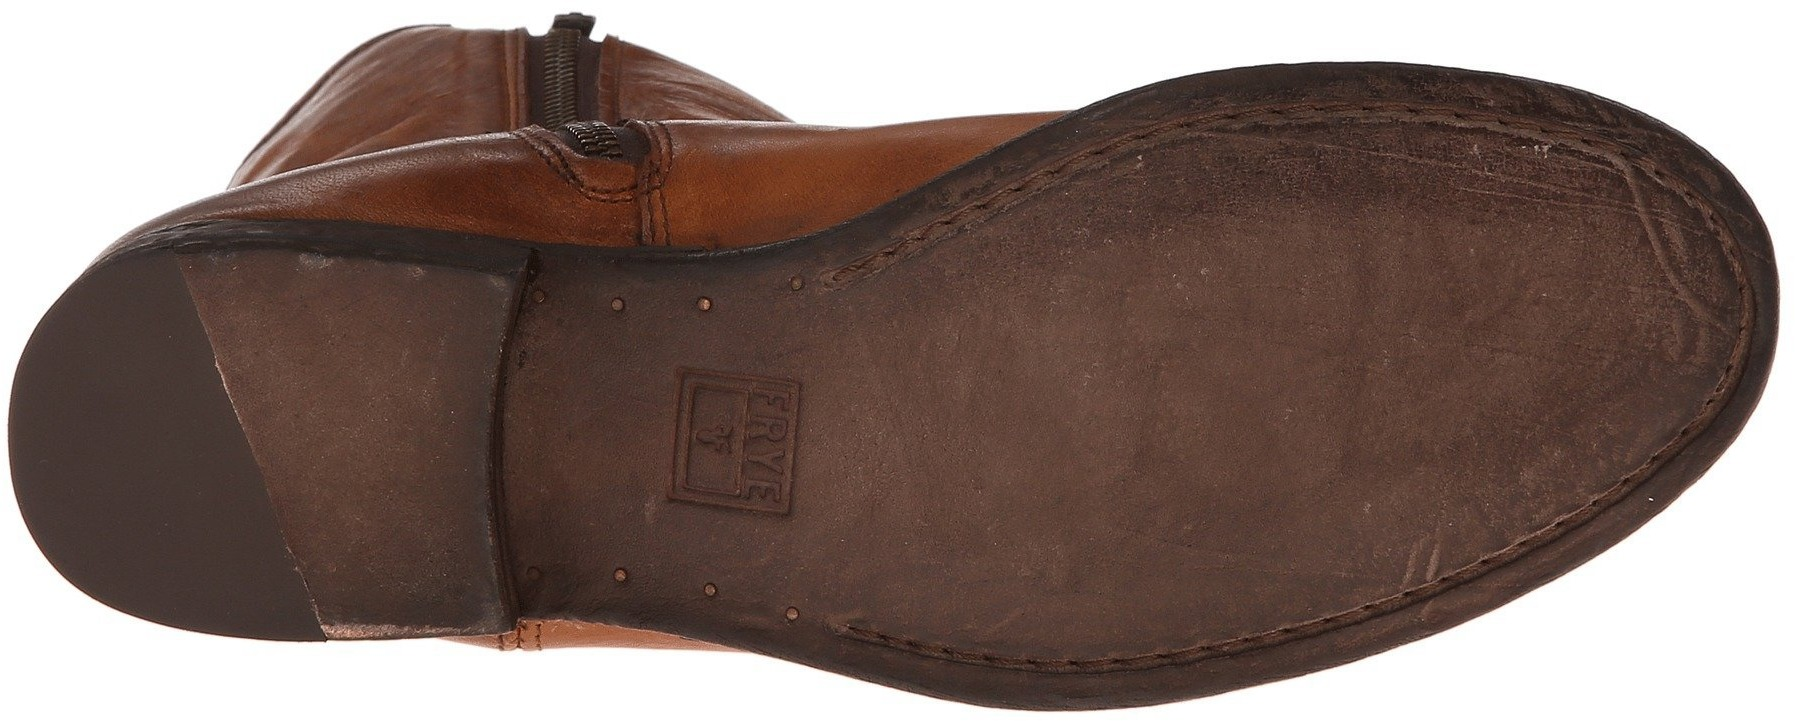other: (1042, 209, 1384, 532), (1390, 188, 1634, 428), (812, 298, 1046, 532), (260, 274, 481, 512), (44, 335, 235, 524), (982, 538, 1109, 653)
